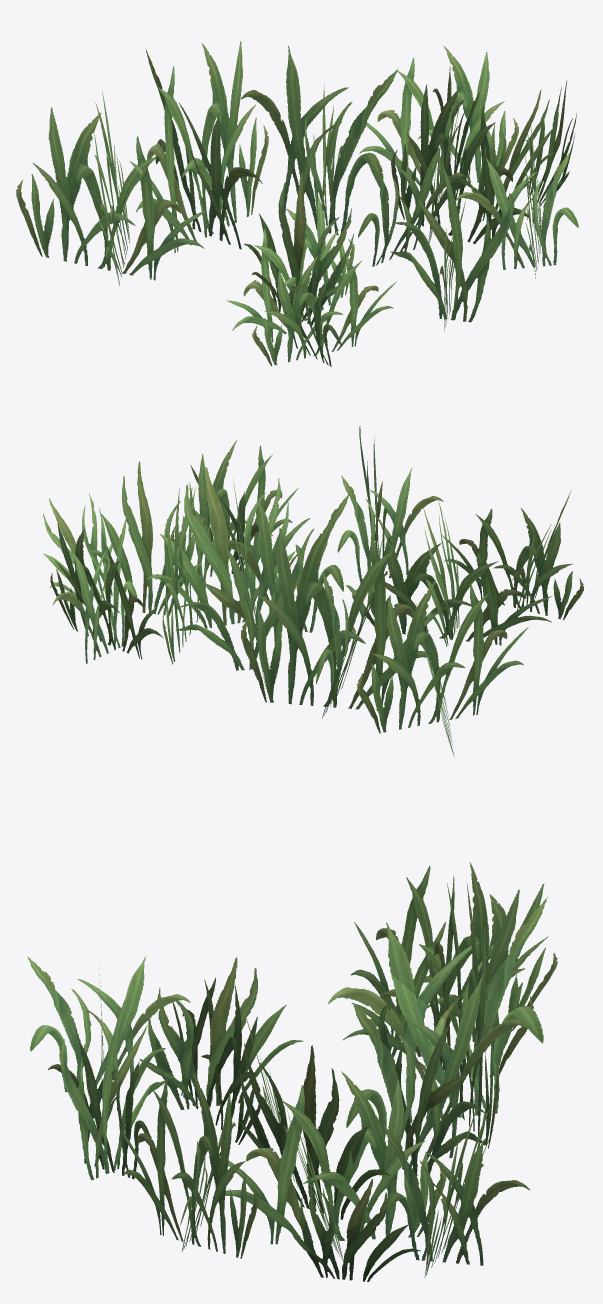
The model's file is cao1.fbx.
3 views of the same model, one above another, from view 1: azimuth 30°, elevation 25°; view 2: azimuth 150°, elevation 25°; view 3: azimuth 270°, elevation 25° (orthographic). The views are drawn at different scales.
Visible parts, largest first — view 1: cao1; view 2: cao1; view 3: cao1.
Part boxes in pixels (bbox=[...]): cao1: bbox=[16, 41, 578, 366]; cao1: bbox=[43, 425, 583, 757]; cao1: bbox=[27, 862, 557, 1281].
Size of the model in its own units: 703 by 305 by 581.
